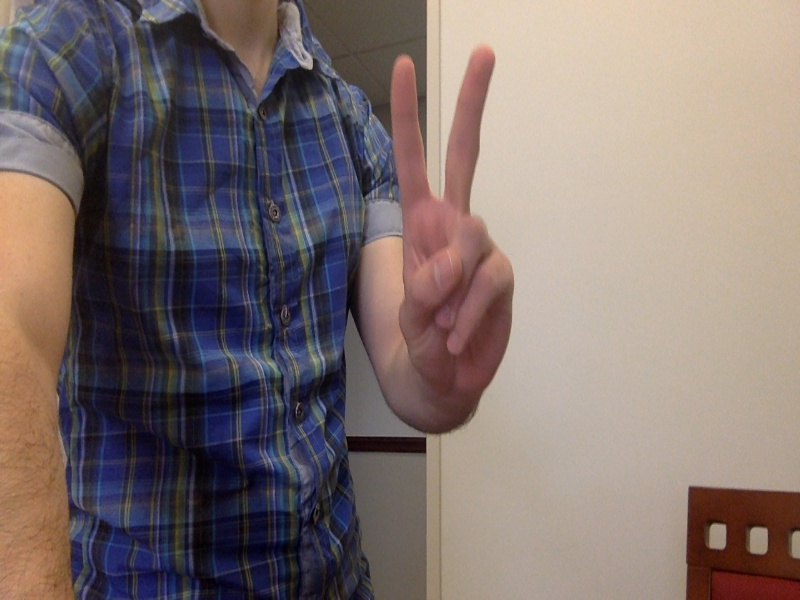2-hand: (391, 50, 521, 403)
